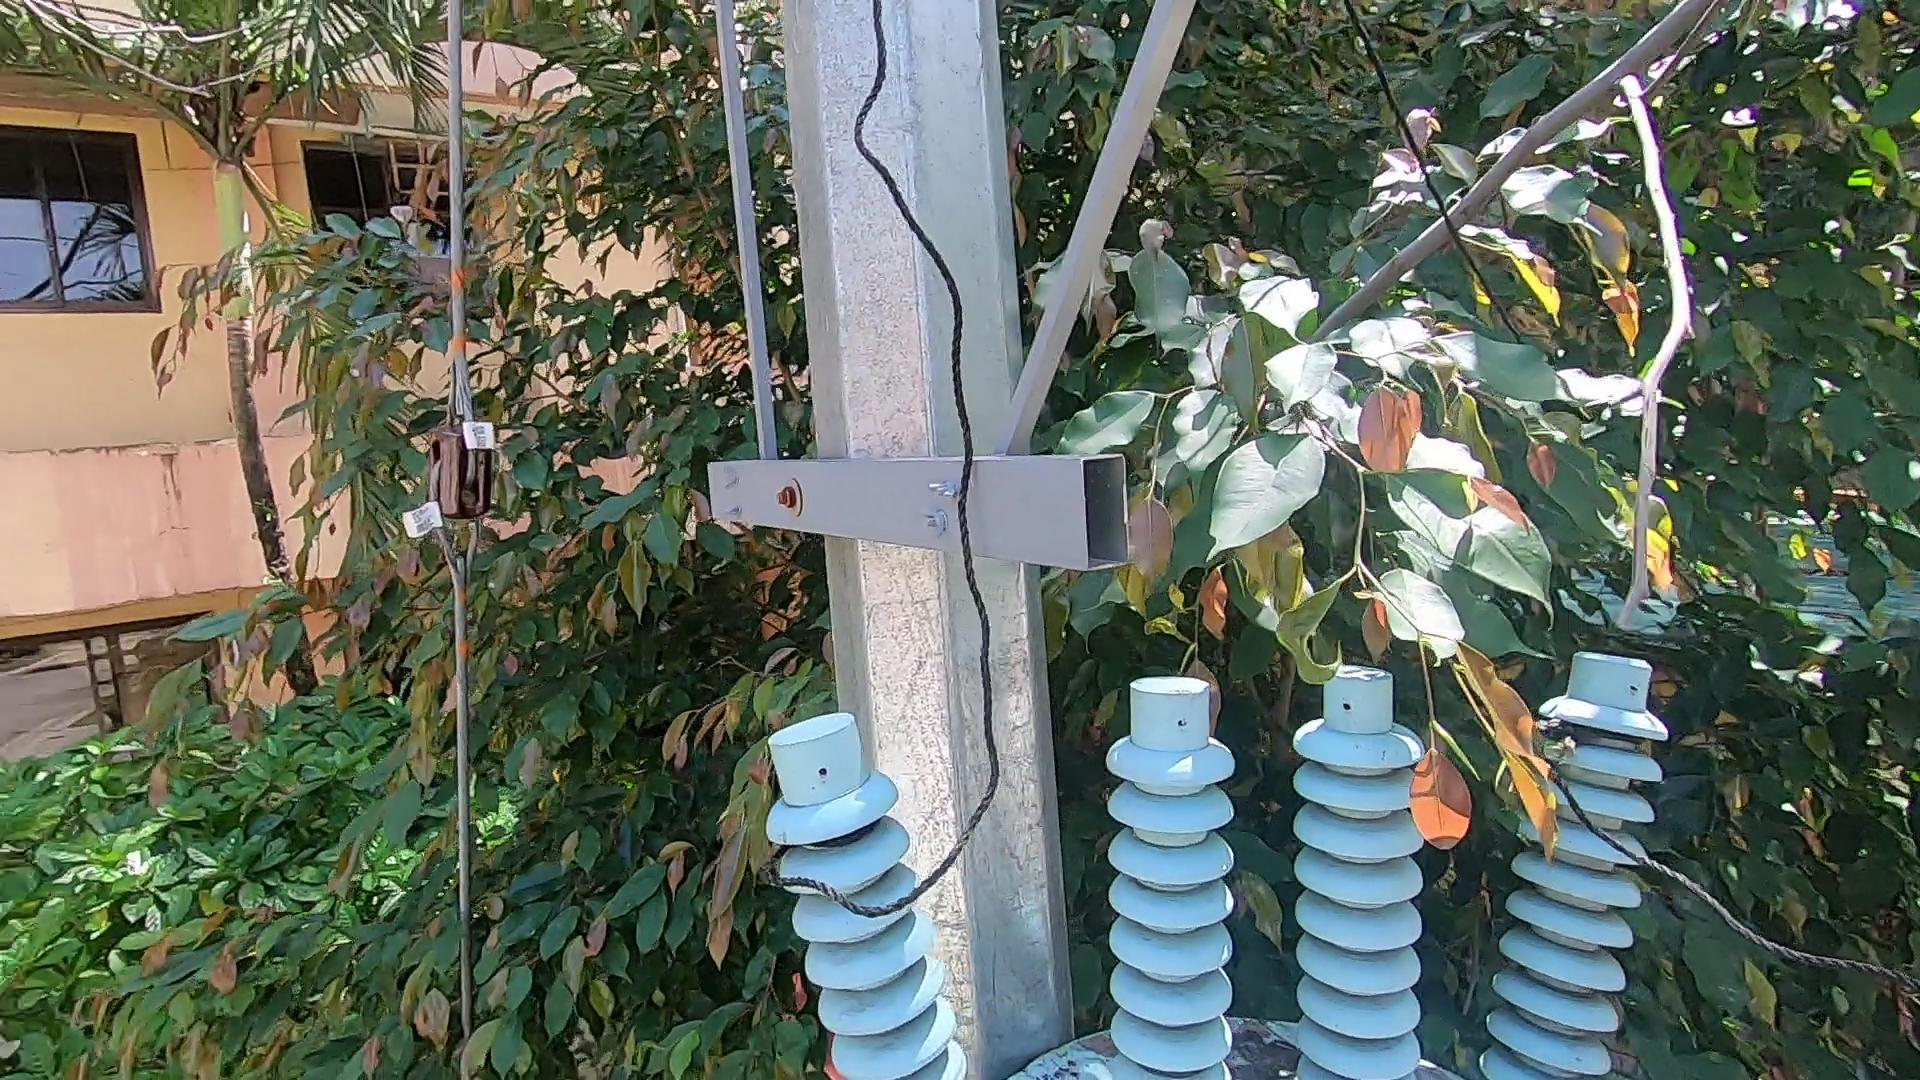tree branch: (1207, 1, 1755, 686)
